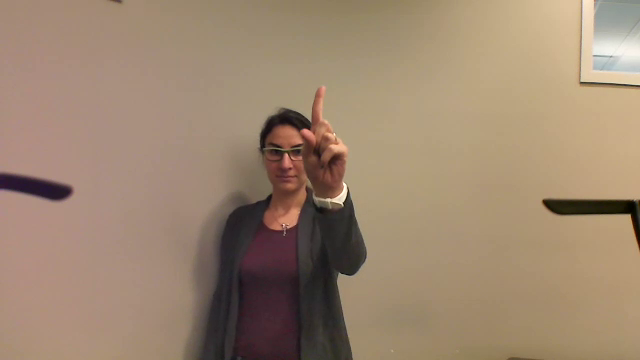up: (294, 81, 358, 200)
